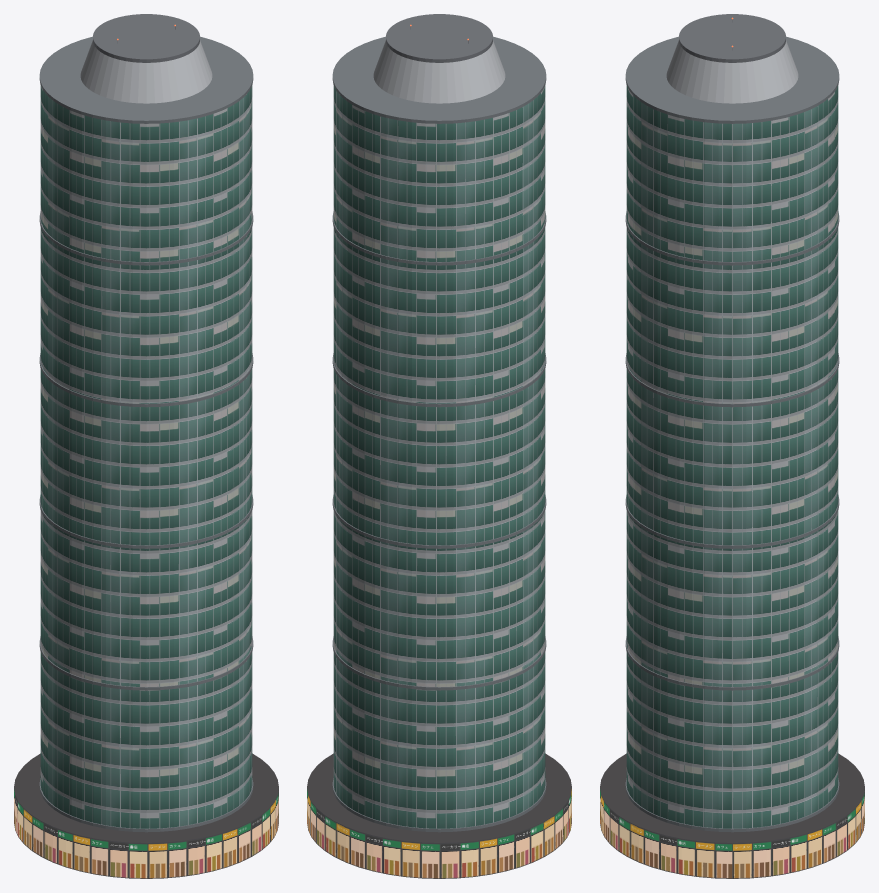
File: tower_cylinder.glb
The picture shows the model from 3 angles, left to right: view 1: azimuth 30°, elevation 25°; view 2: azimuth 150°, elevation 25°; view 3: azimuth 270°, elevation 25°; orthographic projection.
Visible parts, largest first — view 1: tower_cylinder; view 2: tower_cylinder; view 3: tower_cylinder.
Boxes of the visible parts, x1,y1,x2,y2 form: tower_cylinder: [14, 14, 278, 878]; tower_cylinder: [307, 14, 571, 878]; tower_cylinder: [600, 14, 864, 878].
Bounding box in the file's own units: 40 × 132 × 40.
7 materials, 2 textured.
